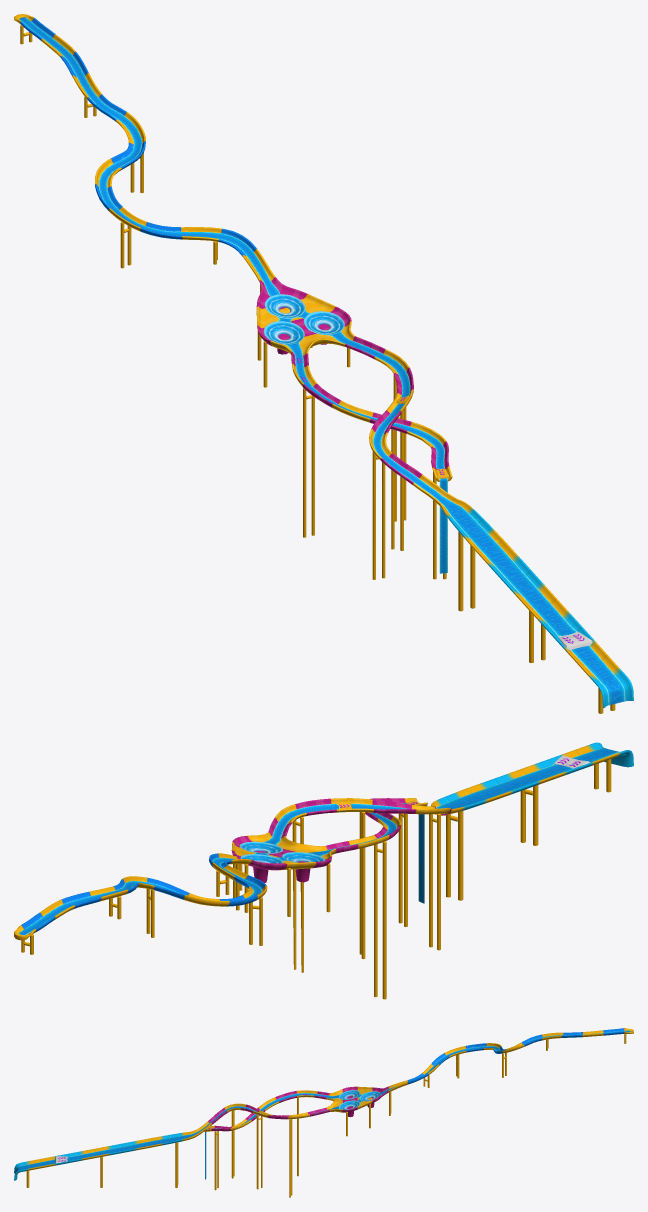
The model's file is waterslide.fbx.
3 renders of one model, top to bottom at view 1: azimuth 30°, elevation 25°; view 2: azimuth 150°, elevation 25°; view 3: azimuth 270°, elevation 25°, orthographic. The views are drawn at different scales.
Parts seen in each view (by area): view 1: Level14Extra, Level14Slide2, Level14Water2, Level14Slide1, Level14Slide3, Level14Water1, Level14Water3; view 2: Level14Extra, Level14Slide2, Level14Slide1, Level14Water2, Level14Slide3, Level14Water1, Level14Water3, Level14Jumps; view 3: Level14Slide2, Level14Extra, Level14Slide1, Level14Slide3, Level14Water2, Level14Water1, Level14Water3.
Boxes of the visible parts, bbox=[...] form: Level14Extra: bbox=[20, 25, 615, 713]; Level14Slide2: bbox=[256, 277, 455, 505]; Level14Water2: bbox=[329, 331, 625, 705]; Level14Slide1: bbox=[14, 14, 275, 282]; Level14Slide3: bbox=[440, 498, 633, 708]; Level14Water1: bbox=[19, 17, 310, 322]; Level14Water3: bbox=[286, 342, 447, 573]; Level14Extra: bbox=[21, 759, 611, 999]; Level14Slide2: bbox=[231, 798, 451, 882]; Level14Slide1: bbox=[14, 853, 267, 940]; Level14Water2: bbox=[263, 748, 619, 845]; Level14Slide3: bbox=[431, 742, 633, 814]; Level14Water1: bbox=[19, 852, 288, 935]; Level14Water3: bbox=[308, 803, 424, 903]; Level14Jumps: bbox=[336, 755, 589, 809]; Level14Slide2: bbox=[192, 1086, 388, 1137]; Level14Extra: bbox=[26, 1034, 626, 1197]; Level14Slide1: bbox=[388, 1028, 633, 1092]; Level14Slide3: bbox=[14, 1131, 194, 1180]; Level14Water2: bbox=[16, 1106, 339, 1171]; Level14Water1: bbox=[356, 1030, 630, 1102]; Level14Water3: bbox=[205, 1093, 339, 1179].
Bounding box in the file's own units: 38.65 × 78.17 × 290.
